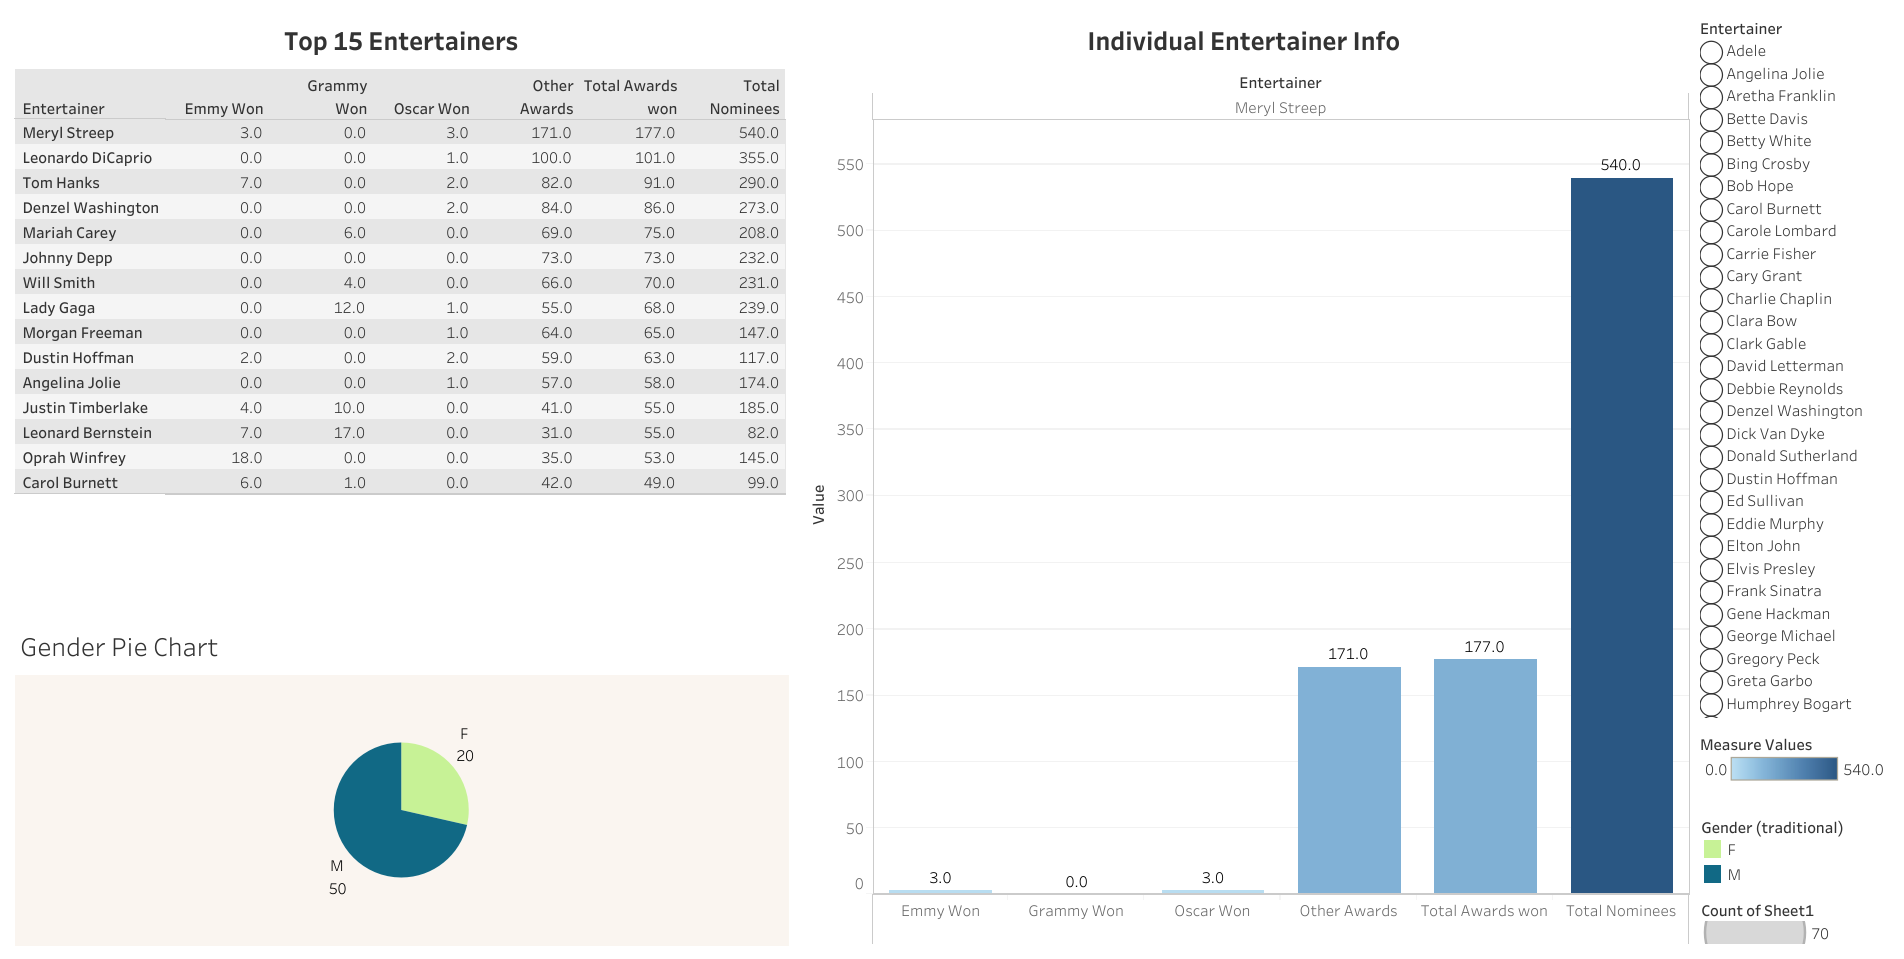

What the dashboard file says about the page in this screenshot:
{"tool":"tableau","page":{"name":"Dashboard 4","canvas":[1524,768],"ordinal":3},"visuals":[{"type":"worksheet","title":"Top 15 Entertainers","mark":"Automatic","rows":["Entertainer"],"box":[8,8,626,485]},{"type":"worksheet","title":"Individual Entertainer Info","mark":"Automatic","cols":["Entertainer"],"box":[634,8,722,752]},{"type":"filter","title":"Individual Entertainer Info","param":"[federated.1c0q6ed10wwgzy16u1l2m0x3vn1v].[none:Entertainer:nk]","box":[1356,8,160,556]},{"type":"worksheet","title":"Gender Pie Chart","mark":"Pie","box":[8,493,626,267]},{"type":"legend","title":"Individual Entertainer Info","param":"[federated.1c0q6ed10wwgzy16u1l2m0x3vn1v].[Multiple Values]","box":[1356,564,160,73]},{"type":"legend","title":"Gender Pie Chart","param":"[federated.1c0q6ed10wwgzy16u1l2m0x3vn1v].[none:Gender (traditional):nk]","box":[1356,637,160,72]},{"type":"legend","title":"Gender Pie Chart","param":"[federated.1c0q6ed10wwgzy16u1l2m0x3vn1v].[__tableau_internal_object_id__].[cnt:S","box":[1356,709,160,51]}]}

Visuals, with their boxes in screenshot pixels (x1, y1, x2, y2), scaled from the page's 1524x768 canvas onto the 1904x959 screenshot:
"Top 15 Entertainers" worksheet: bbox(10, 10, 792, 616)
"Individual Entertainer Info" worksheet: bbox(792, 10, 1694, 949)
"Individual Entertainer Info" filter: bbox(1694, 10, 1894, 704)
"Gender Pie Chart" worksheet (Pie marks): bbox(10, 616, 792, 949)
"Individual Entertainer Info" legend: bbox(1694, 704, 1894, 795)
"Gender Pie Chart" legend: bbox(1694, 795, 1894, 885)
"Gender Pie Chart" legend: bbox(1694, 885, 1894, 949)
